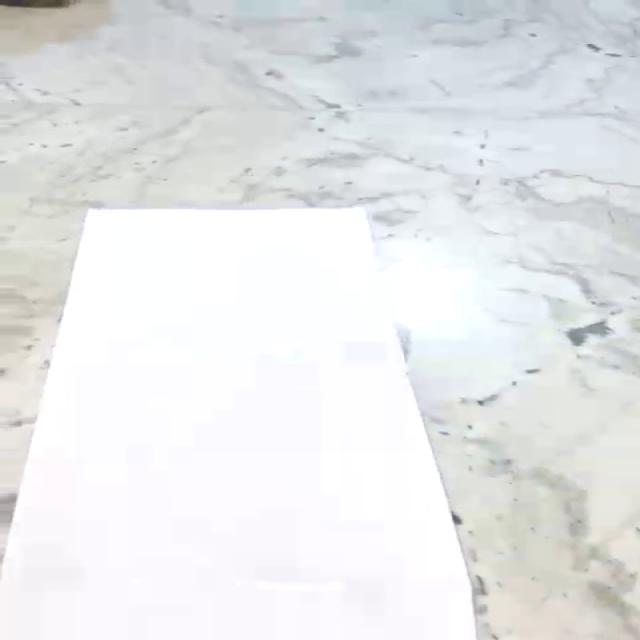road: (0, 207, 480, 640)
